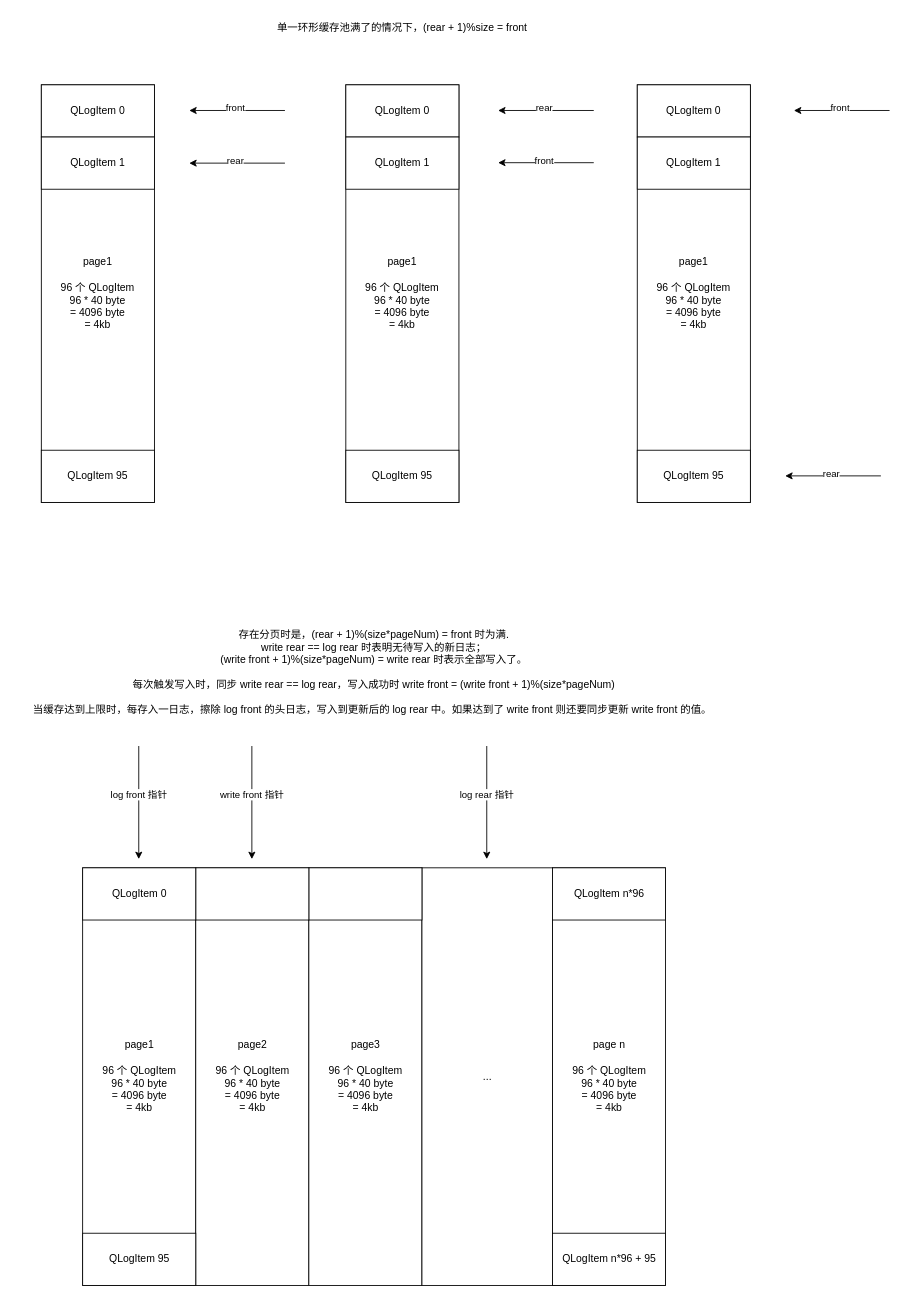
The diagram is 912 pixels wide and 1301 high, and some of its shapes have lost their labels. Here are the shapes that lost their labels. From the top down, the centre of each, then its label:
At (252,893): "QLogItem 96".
At (365,893): "QLogItem 192".
